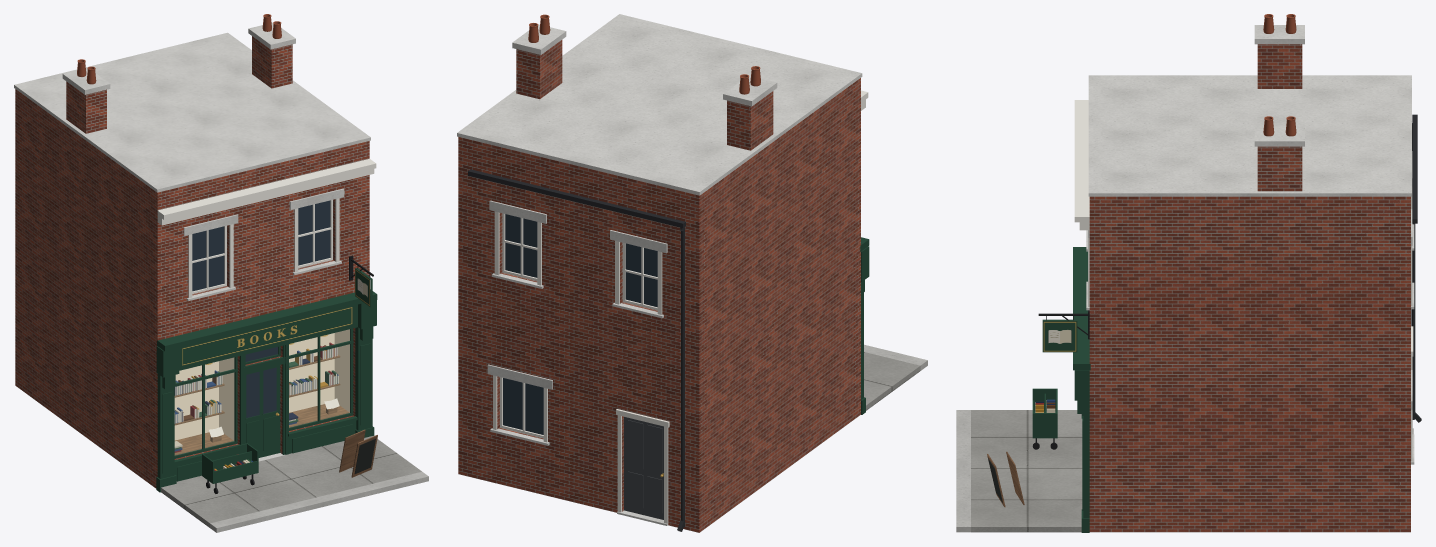
File: bookshop.glb
3 renders of one model, left to right at view 1: azimuth 30°, elevation 25°; view 2: azimuth 150°, elevation 25°; view 3: azimuth 270°, elevation 25°, orthographic. The views are drawn at different scales.
Parts seen in each view (by area): view 1: Bookshop; view 2: Bookshop; view 3: Bookshop.
Boxes of the visible parts, <box> form: Bookshop: <box>14,14,428,532</box>; Bookshop: <box>457,14,927,532</box>; Bookshop: <box>956,14,1421,532</box>.
Bounding box in the file's own units: 5.66 × 9.08 × 9.42.
31 materials, 10 textured.
